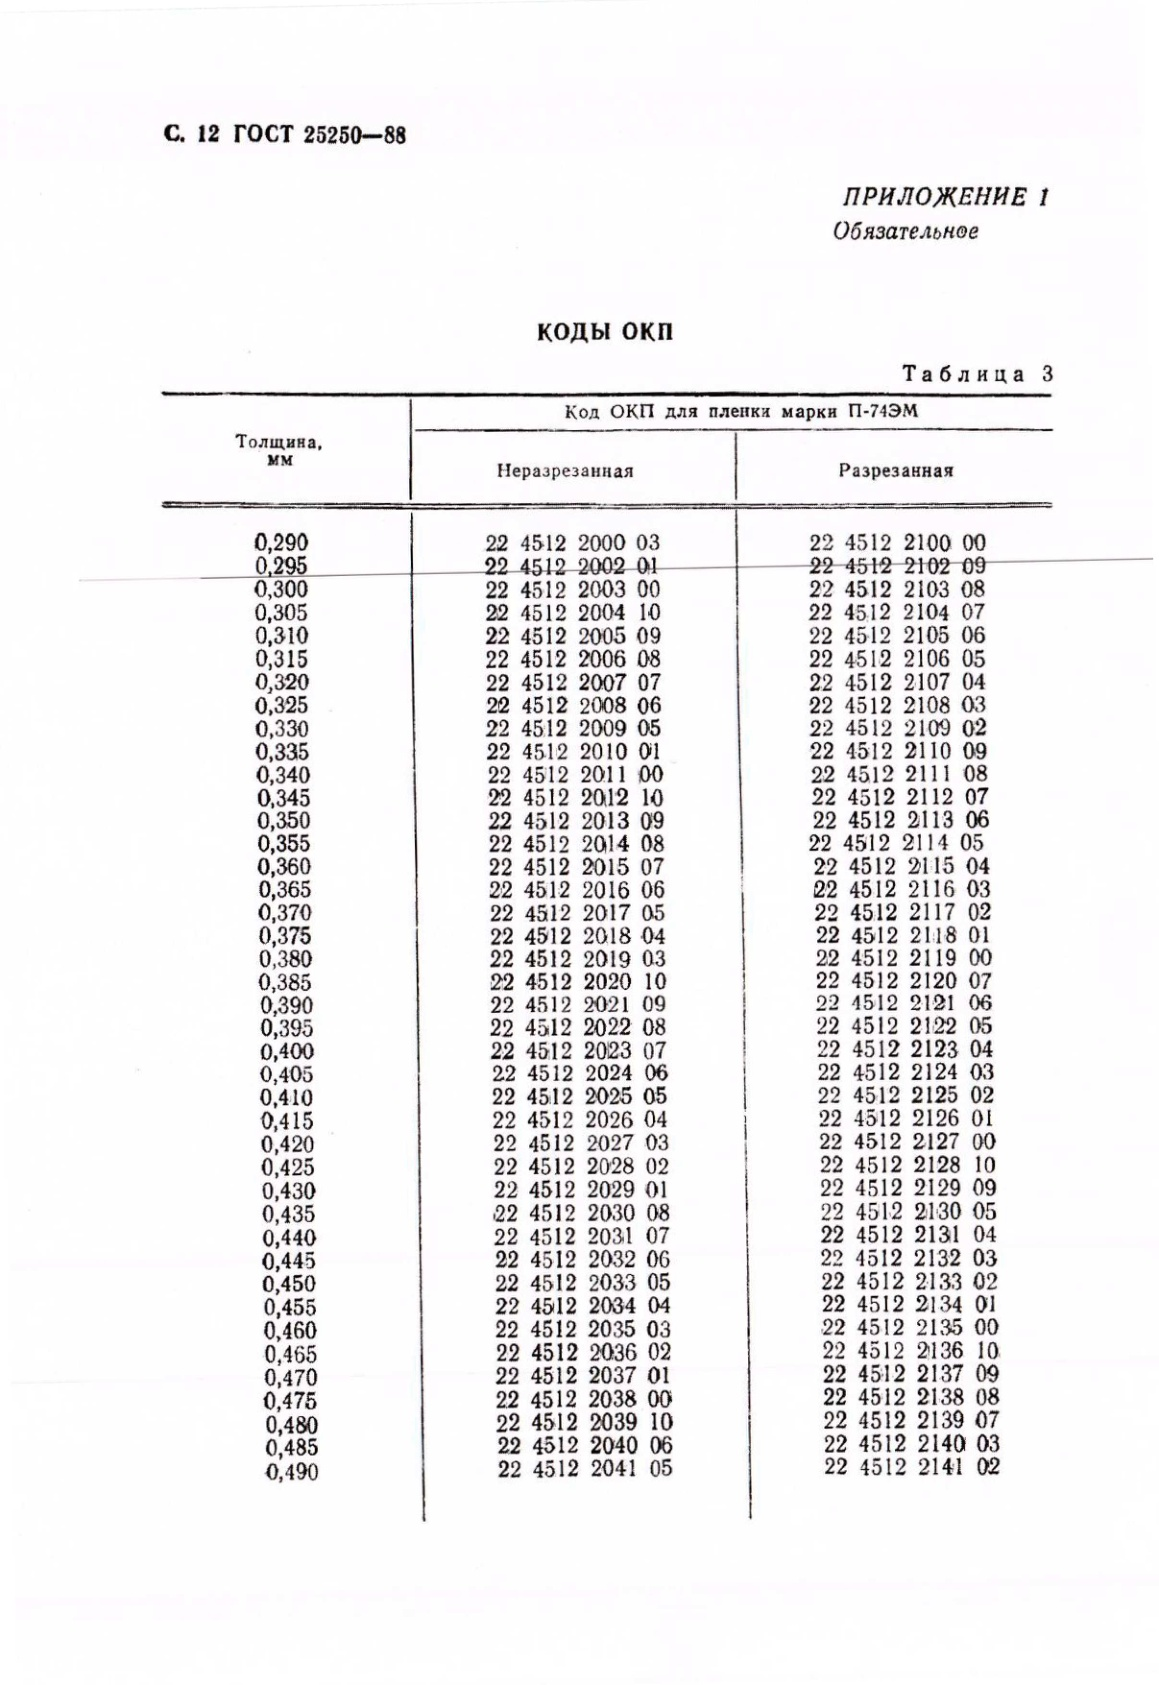partial_lined_merged_cells: (160, 391, 1057, 1525)
